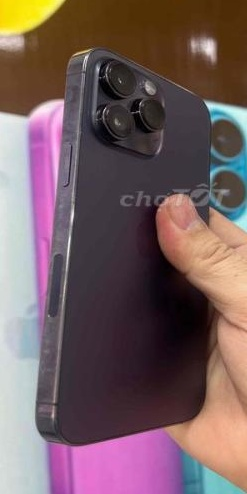scratch: (26, 283, 77, 395), (41, 175, 87, 257)
